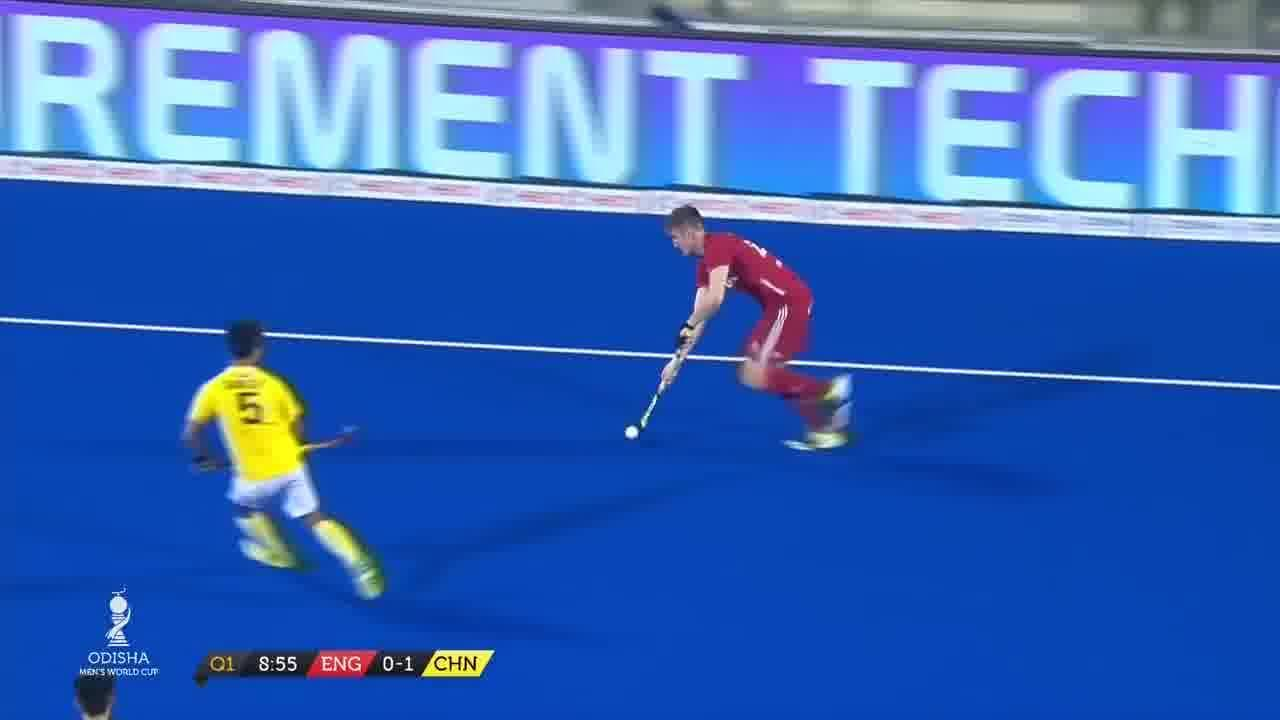ball: (618, 421, 646, 444)
